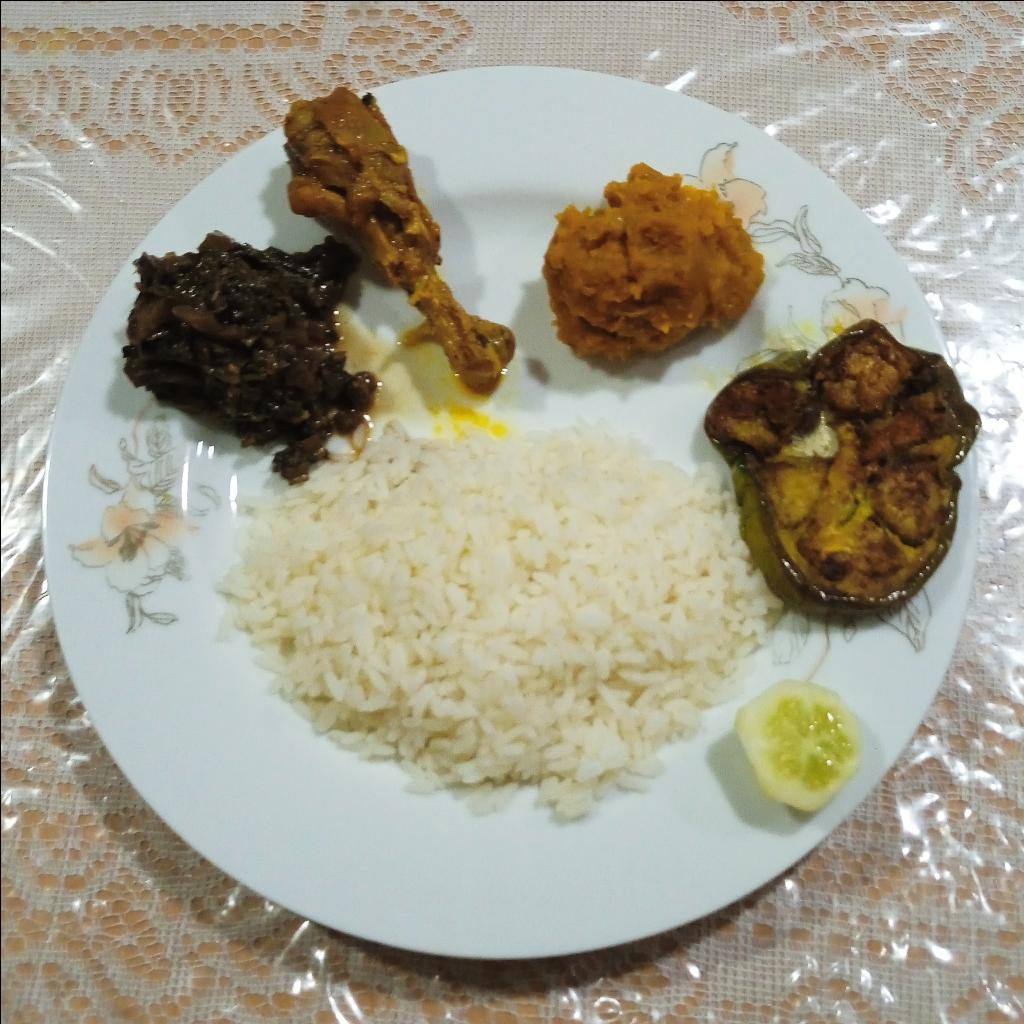chicken: (280, 84, 516, 389)
cucumber: (737, 683, 867, 820)
egg: (705, 317, 984, 615)
kumra-vaji: (537, 163, 768, 360)
rice: (220, 419, 788, 823)
shak: (119, 224, 375, 485)
